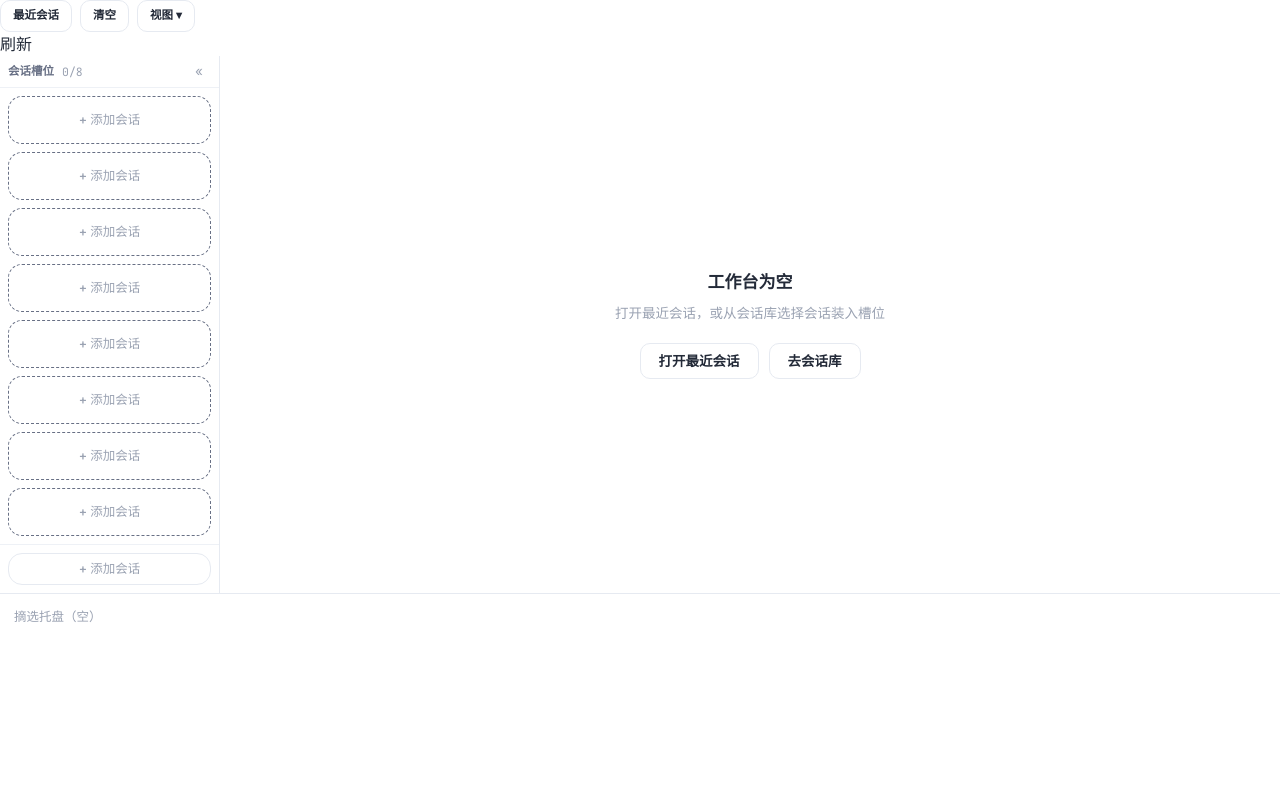
WorkspaceView (t224) › 最近会话：快捷选择最近 6 个并按结束时间取前六
Click the button "最近会话": (36, 16) [0,0,72,32]
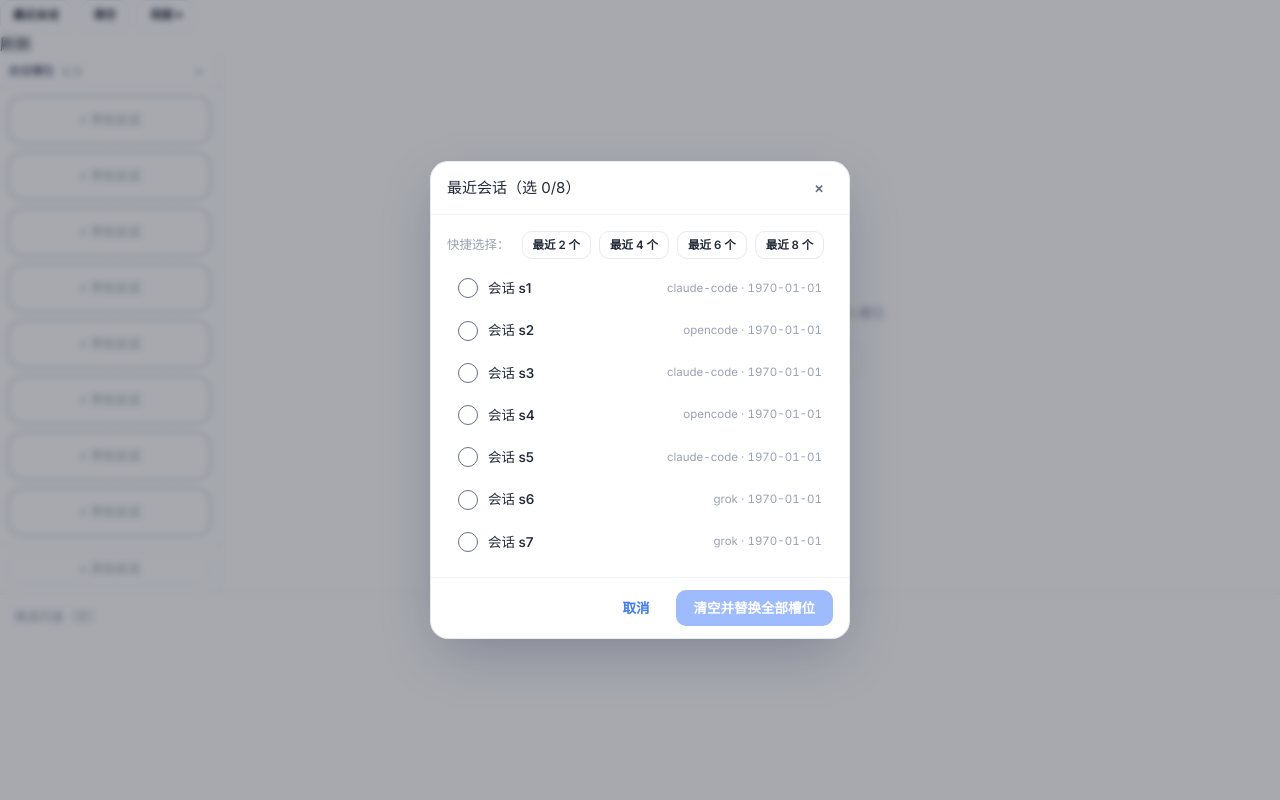
Now the button "最近 6 个" is shown
Now the button "最近 2 个" is shown, box [522,231,591,259]
Now the button "最近 4 个" is shown, box [599,231,669,259]
Click the button "最近 6 个": (712, 245) [677,231,747,259]
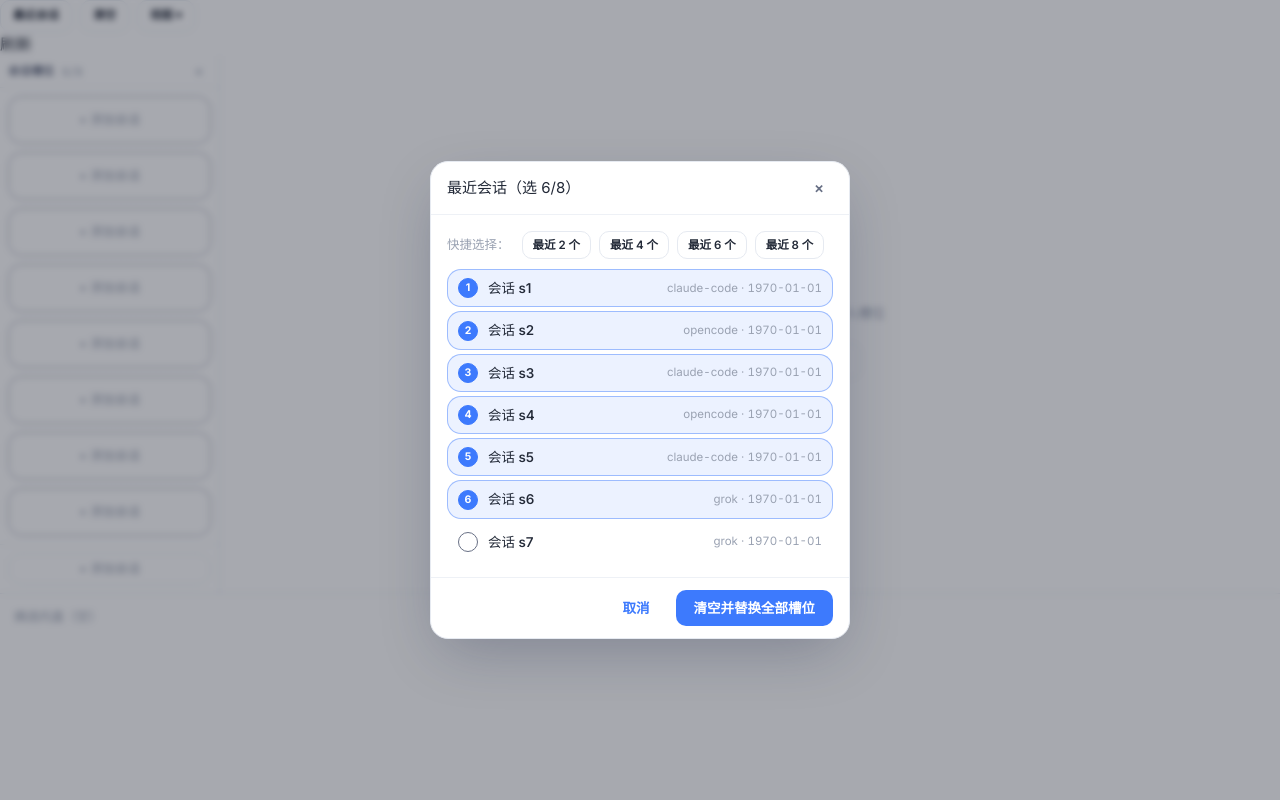
Now the text "最近会话（选 6/8）" is shown, box [447,177,580,199]
